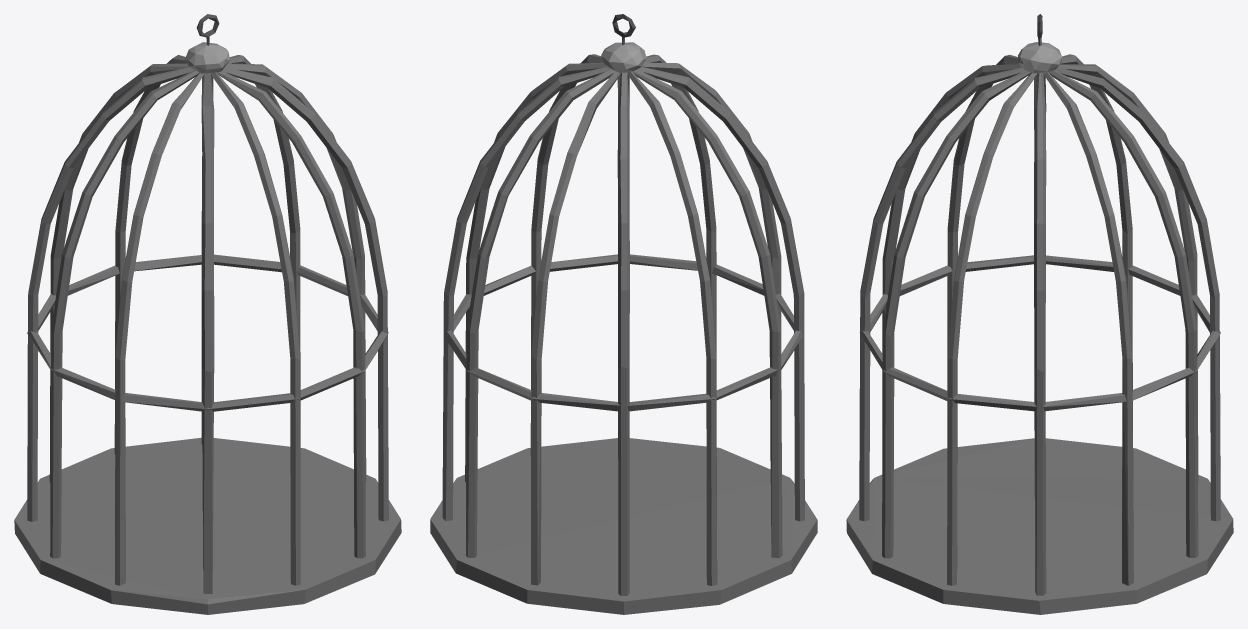
Rendered from LPCP_Cage12.fbx.
The picture shows the model from 3 angles, left to right: view 1: azimuth 30°, elevation 25°; view 2: azimuth 150°, elevation 25°; view 3: azimuth 270°, elevation 25°; orthographic projection.
Visible parts, largest first — view 1: LPCP_Cage12; view 2: LPCP_Cage12; view 3: LPCP_Cage12.
Boxes of the visible parts, x1=… form: LPCP_Cage12: x1=14, y1=14, x2=401, y2=614; LPCP_Cage12: x1=430, y1=14, x2=817, y2=614; LPCP_Cage12: x1=846, y1=14, x2=1233, y2=614.
Bounding box in the file's own units: 2.18 × 3.22 × 2.17.
